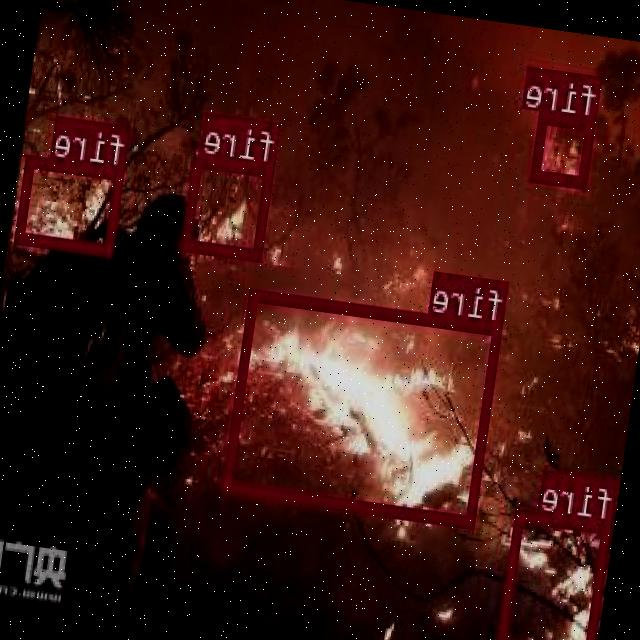fire: (226, 288, 504, 526), (499, 506, 614, 640), (18, 154, 126, 254), (185, 155, 276, 260), (533, 110, 598, 188)
